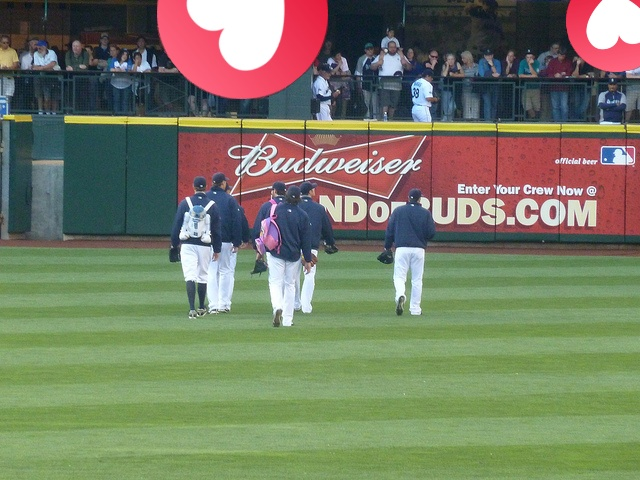love: (157, 0, 328, 99), (566, 0, 640, 72)
